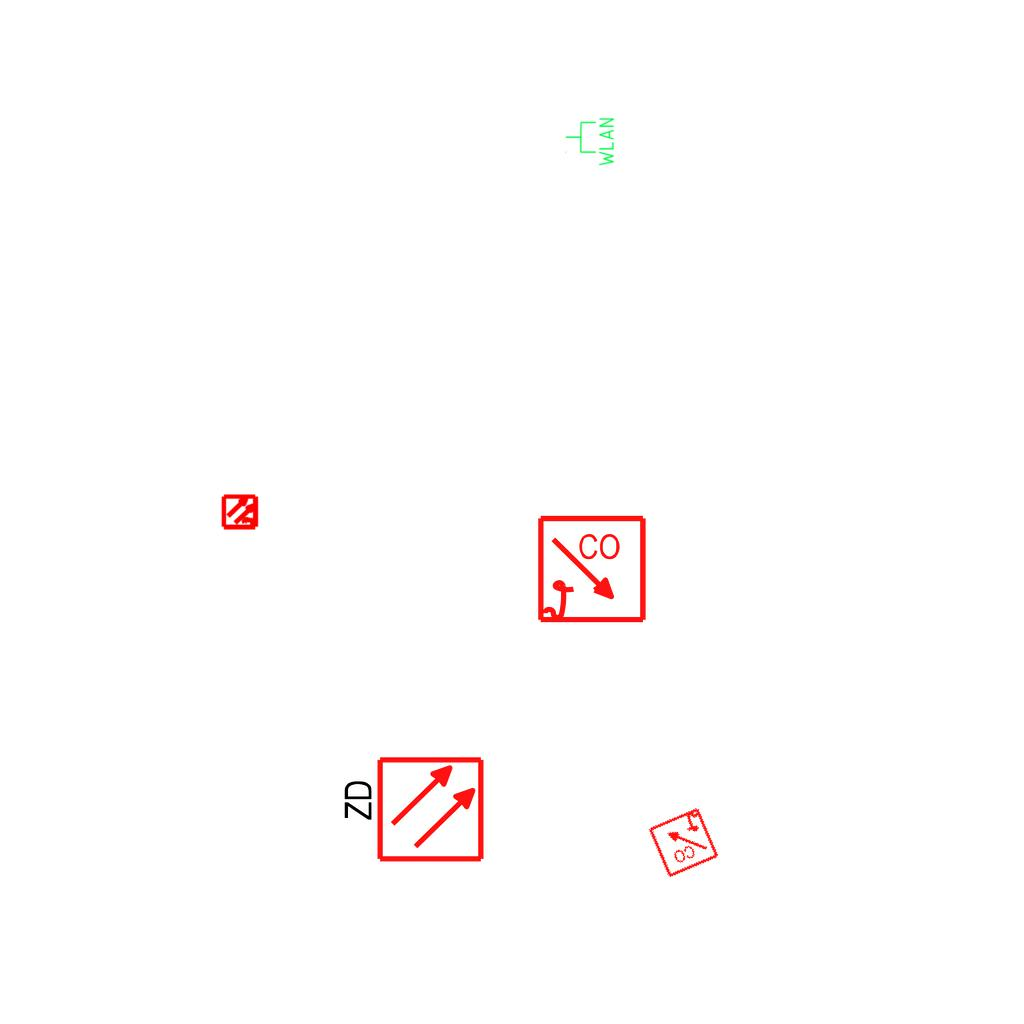OT_Multisensormelder_(Kombination_RMO_WMD): (213, 484, 269, 540)
ROA_Rauchmelder_optisch_mit_Signalgeber_(Sockelsirene): (536, 514, 649, 627), (646, 805, 720, 879)
WLAN: (564, 116, 616, 168)
ZD_Melder_in_Zwischendecke_mit_Revisionsoeffnung_mind_40_x_40_cm: (337, 754, 486, 868)
